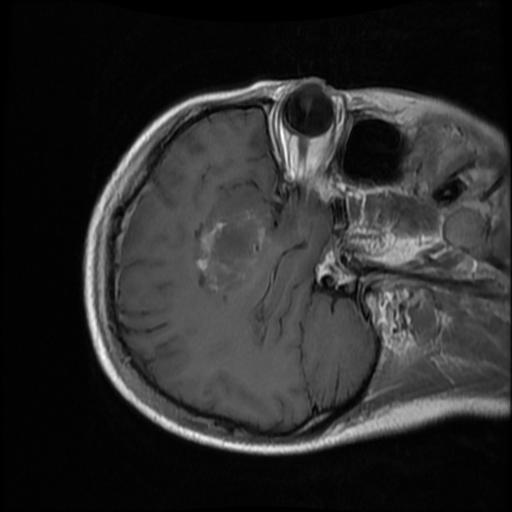glioma: (193, 185, 269, 297)
